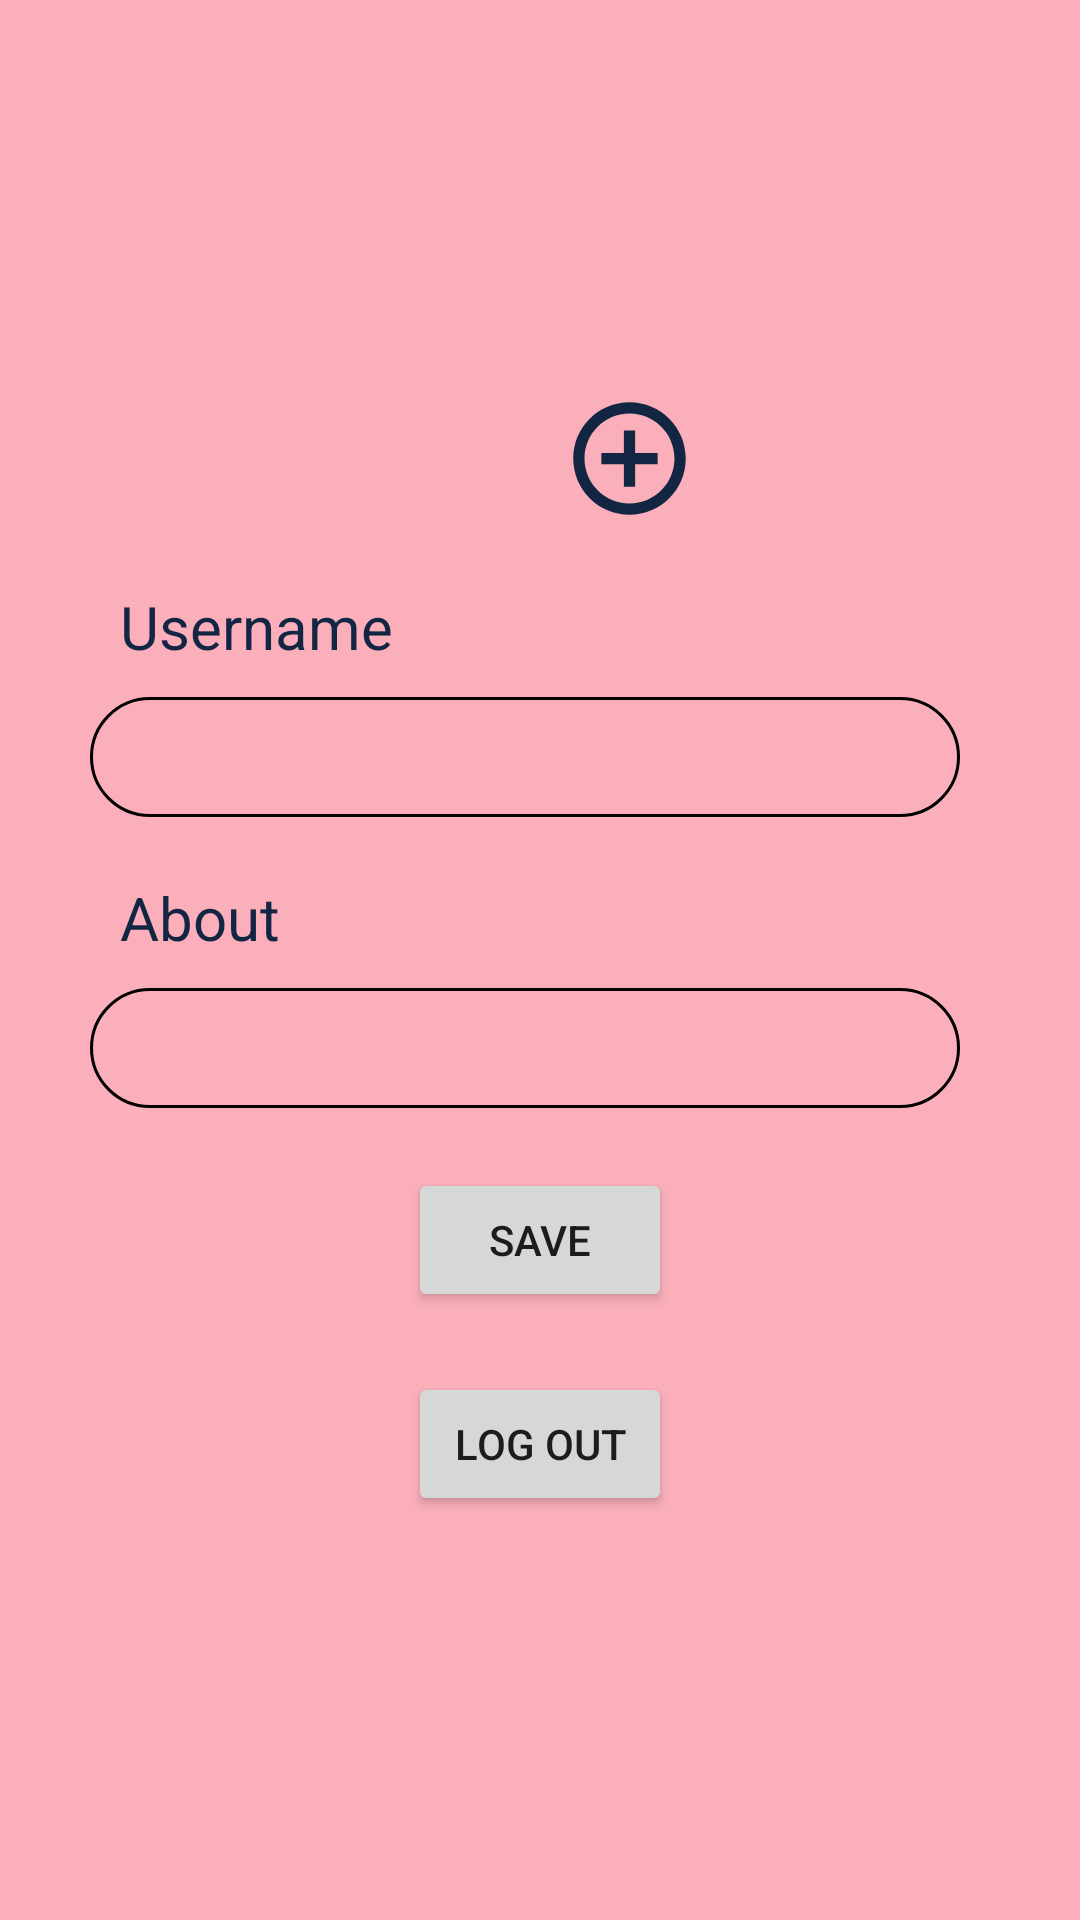

Screen size 1080*1920. Icon name, then its box in pixels as (x1, y1, x2, y2):
add circle: (573, 402, 686, 515)
